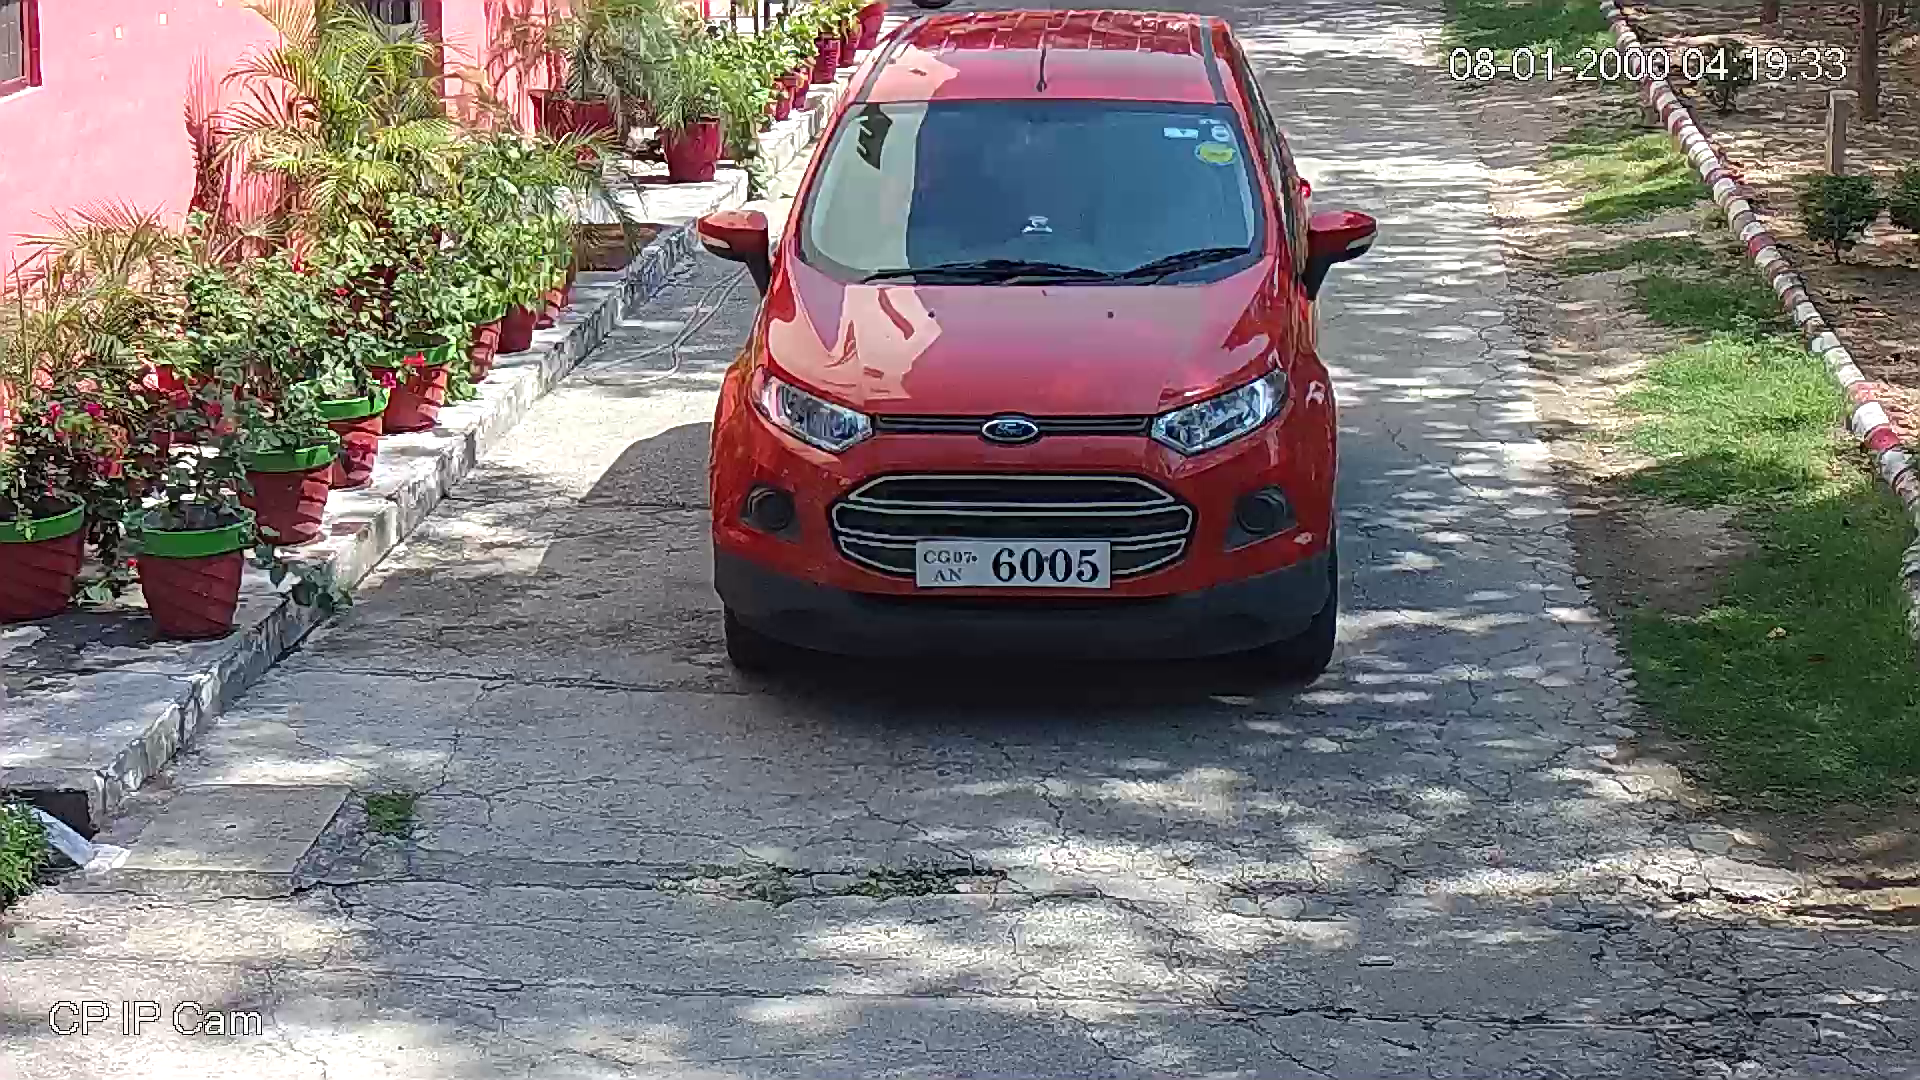plate: (910, 535, 1114, 595)
